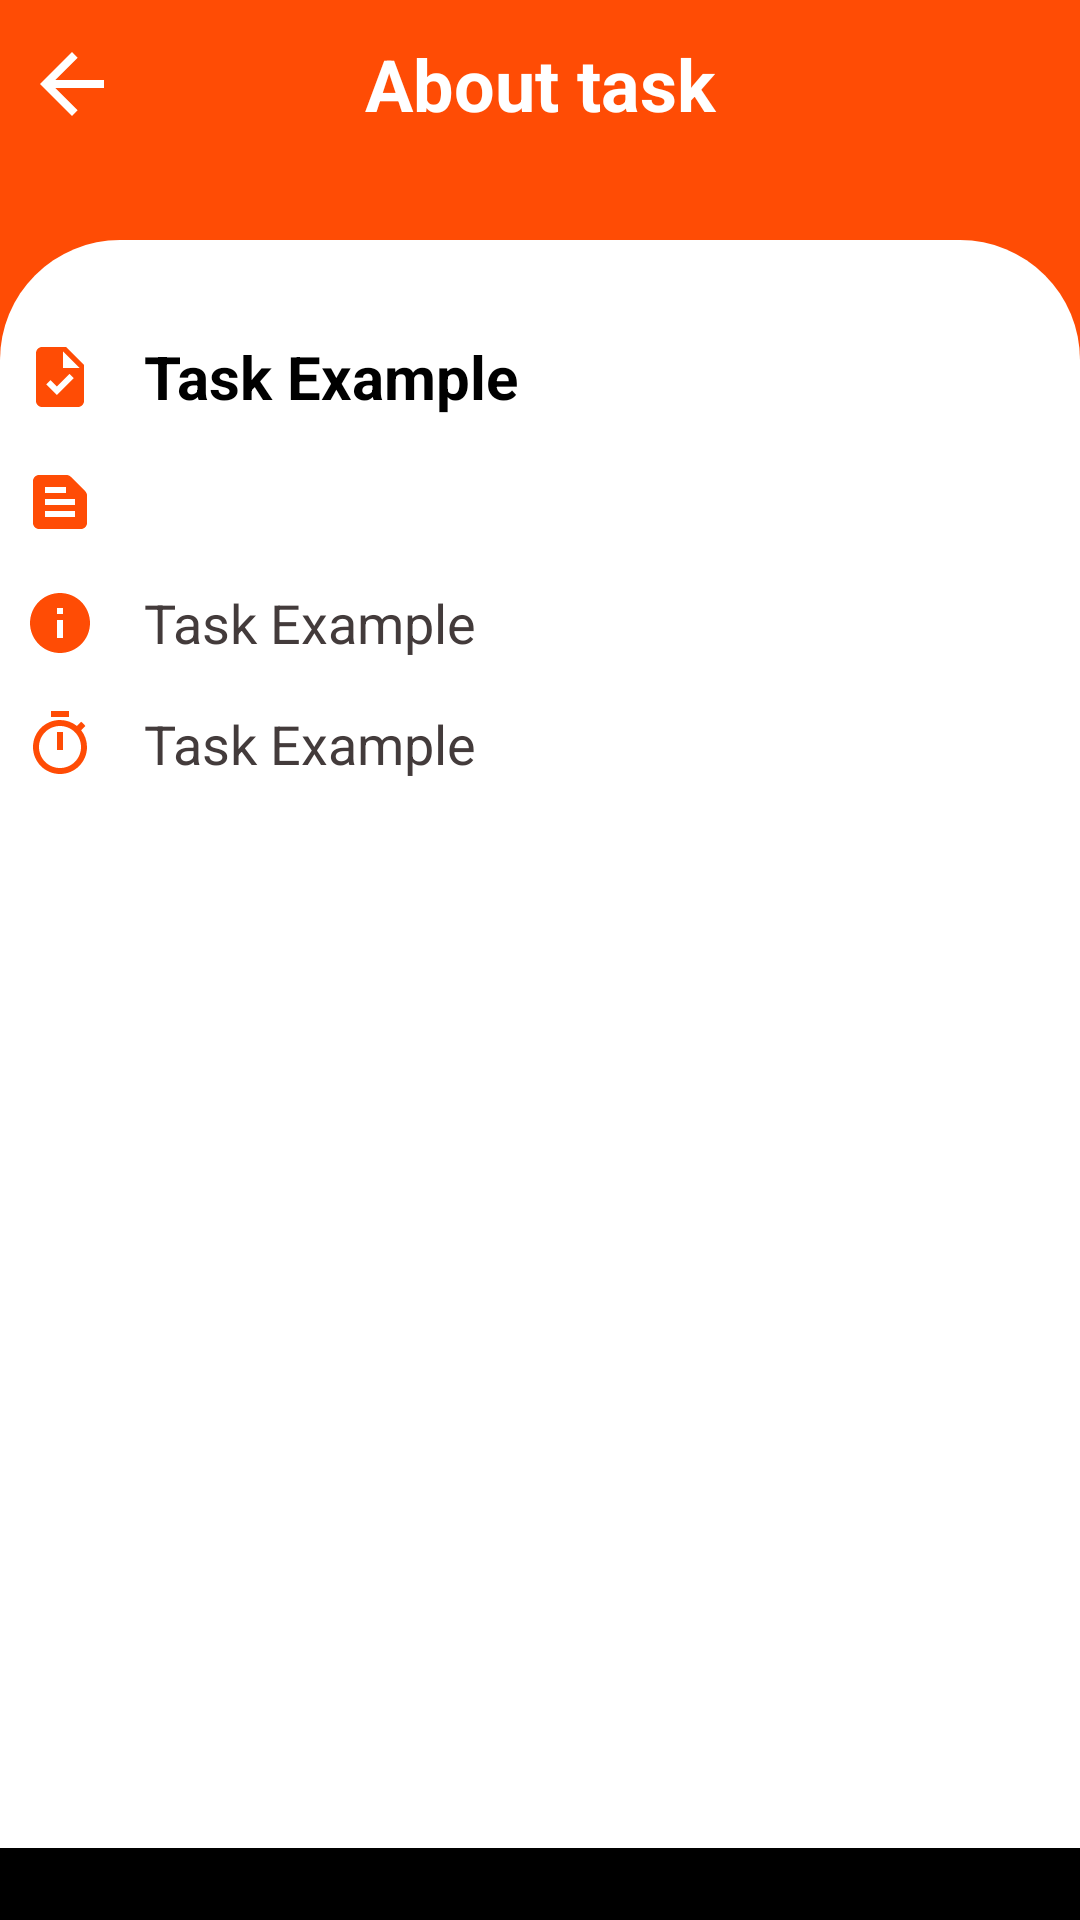

Named icons in this screenshot (1080x1920) and their bounding boxes, (x1, y1, x2, y2):
back: (40, 52, 104, 116)
info: (30, 593, 90, 653)
timer: (33, 711, 87, 774)
